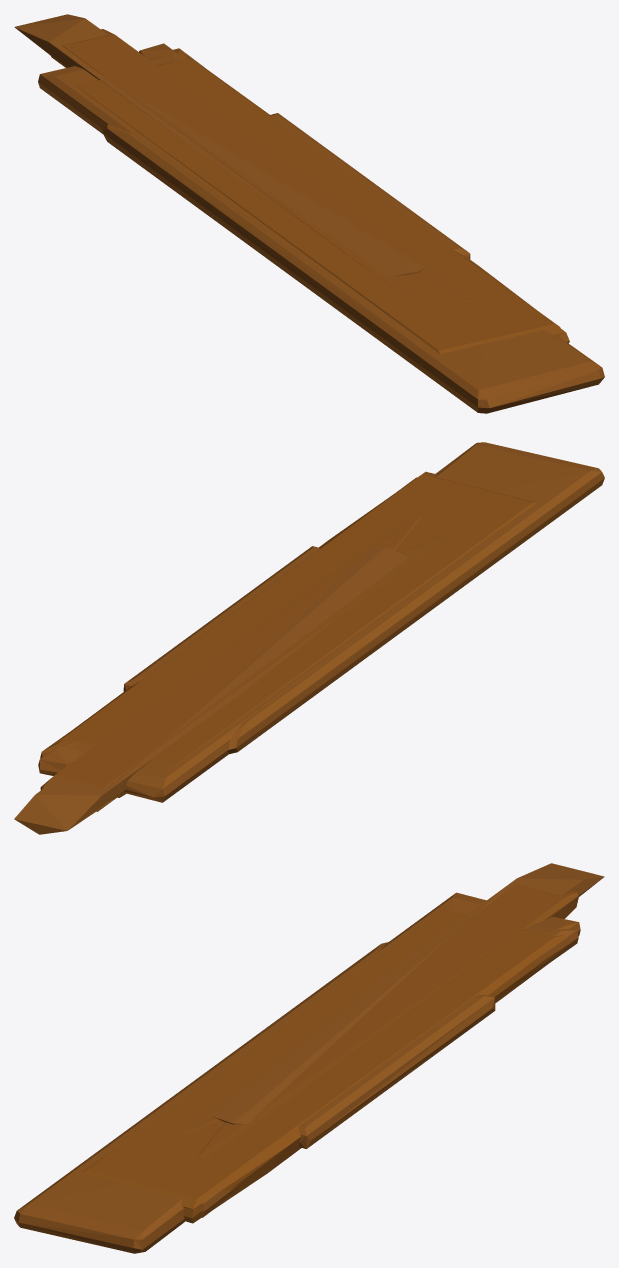
The model's file is WoodenPlanks.fbx.
The picture shows the model from 3 angles, top to bottom: view 1: azimuth 30°, elevation 25°; view 2: azimuth 150°, elevation 25°; view 3: azimuth 330°, elevation 25°; orthographic projection.
Visible parts, largest first — view 1: WoodenPlank.007, WoodenPlank.002, WoodenPlank.005, WoodenPlank.006, WoodenPlank, WoodenPlank.003; view 2: WoodenPlank.007, WoodenPlank.002, WoodenPlank.005, WoodenPlank.006, WoodenPlank, WoodenPlank.003; view 3: WoodenPlank.007, WoodenPlank.005, WoodenPlank.002, WoodenPlank.006, WoodenPlank.003, WoodenPlank, WoodenPlank.001.
Part boxes in pixels (box(x1,y1,x2,y2)): WoodenPlank.007: box(75, 54, 569, 354); WoodenPlank.002: box(102, 124, 604, 413); WoodenPlank.005: box(51, 29, 472, 309); WoodenPlank.006: box(14, 14, 424, 276); WoodenPlank: box(38, 43, 421, 341); WoodenPlank.003: box(270, 113, 470, 259); WoodenPlank.007: box(53, 471, 536, 765); WoodenPlank.002: box(228, 442, 604, 753); WoodenPlank.005: box(40, 515, 457, 811); WoodenPlank.006: box(14, 547, 408, 834); WoodenPlank: box(38, 516, 522, 802); WoodenPlank.003: box(123, 546, 319, 691); WoodenPlank.007: box(82, 909, 566, 1223); WoodenPlank.005: box(160, 884, 578, 1157); WoodenPlank.002: box(14, 942, 388, 1253); WoodenPlank.006: box(210, 863, 604, 1124); WoodenPlank.003: box(298, 994, 495, 1148); WoodenPlank: box(96, 892, 580, 1159); WoodenPlank.001: box(201, 905, 578, 1217).
Size of the model in its own units: 0.7907 by 0.1216 by 4.75.
